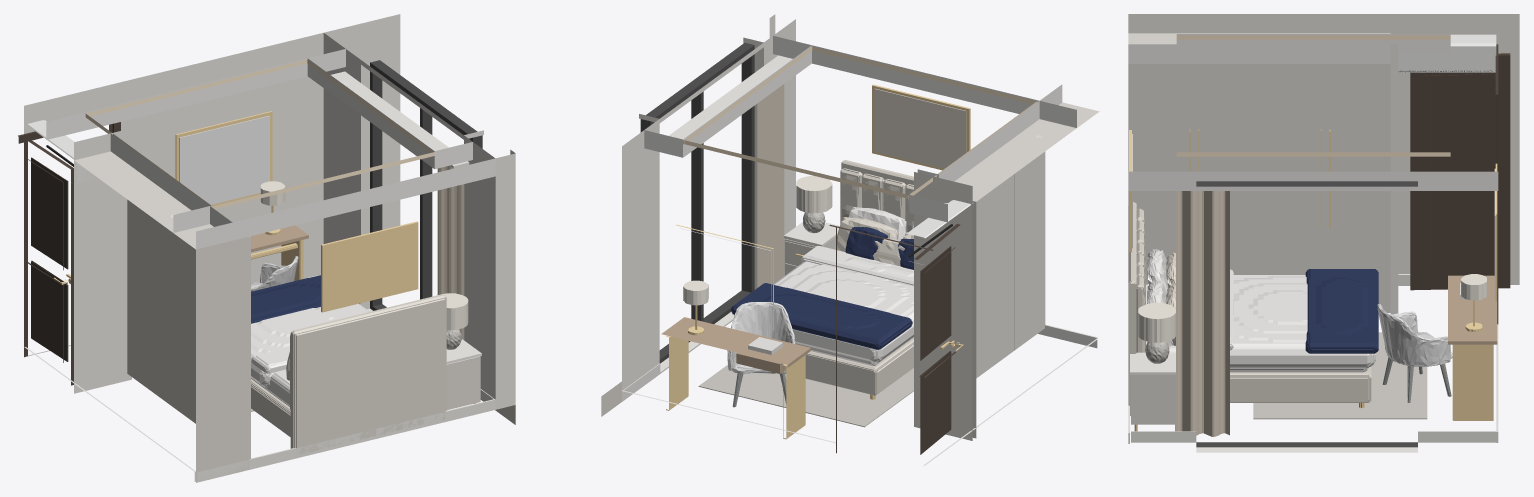
The model's file is ROOM2.glb.
3 renders of one model, left to right at view 1: azimuth 30°, elevation 25°; view 2: azimuth 150°, elevation 25°; view 3: azimuth 270°, elevation 25°, orthographic. The views are drawn at different scales.
Parts seen in each view (by area): view 1: WEB_ROOM2; view 2: WEB_ROOM2; view 3: WEB_ROOM2.
Part boxes in pixels (bbox=[...]): WEB_ROOM2: bbox=[18, 14, 515, 482]; WEB_ROOM2: bbox=[601, 14, 1099, 465]; WEB_ROOM2: bbox=[1128, 14, 1519, 452].
Bounding box in the file's own units: 3.98 × 2.7 × 3.27.
